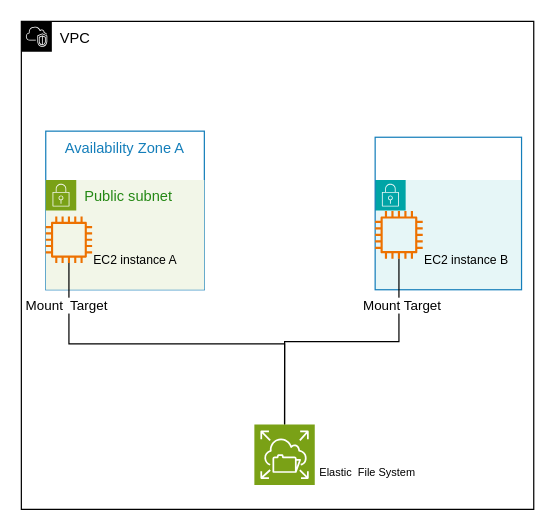
Some shapes in this 555 by 531 pixel diagram are drawn without their labels. The shapes that lost their labels are listed below. From the top down, each one's box as (x1, y1, x2, y2) in pixels, then its label:
(374, 136, 522, 290): Availability Zone B
(374, 179, 522, 290): Private subnet
